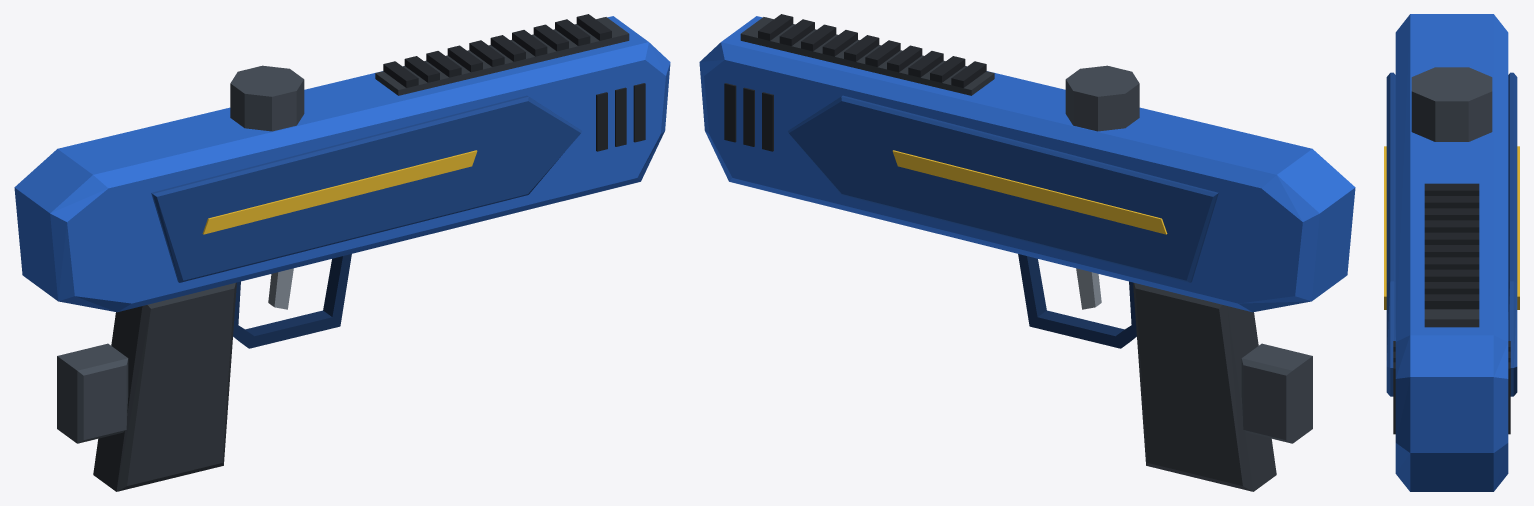
The model's file is titan.glb.
3 views of the same model, side by side, from view 1: azimuth 30°, elevation 25°; view 2: azimuth 150°, elevation 25°; view 3: azimuth 270°, elevation 25° (orthographic). The views are drawn at different scales.
Parts seen in each view (by area): view 1: titan_body; view 2: titan_body; view 3: titan_body.
Part boxes in pixels (bbox=[...]): titan_body: bbox=[14, 14, 670, 491]; titan_body: bbox=[699, 14, 1355, 491]; titan_body: bbox=[1384, 14, 1519, 491].
Size of the model in its own units: 0.462 by 0.258 by 0.0747.
